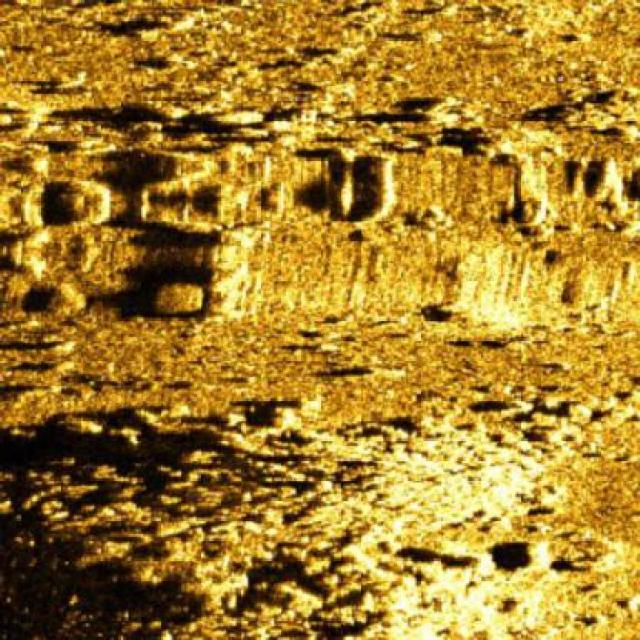bedrock group: (0, 383, 608, 639)
